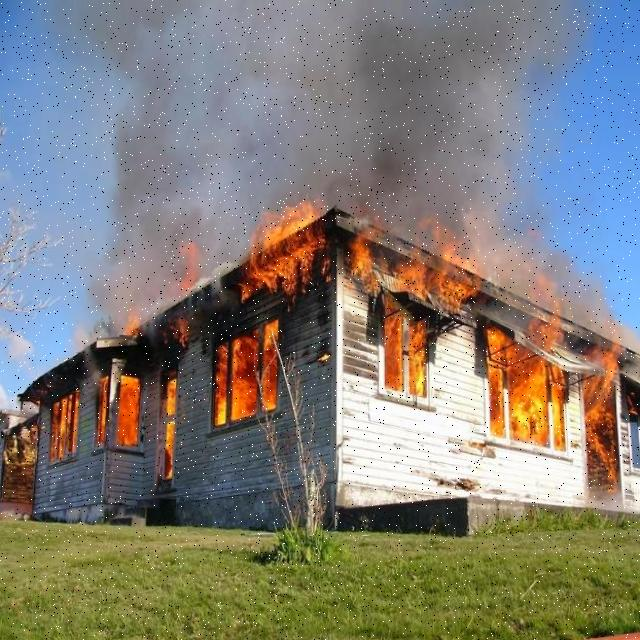fire: (342, 225, 478, 410), (35, 336, 213, 471), (484, 278, 575, 460), (233, 197, 339, 319), (575, 320, 640, 486), (210, 330, 300, 434)
smoke: (108, 0, 557, 258), (78, 242, 214, 330), (541, 250, 620, 313)
